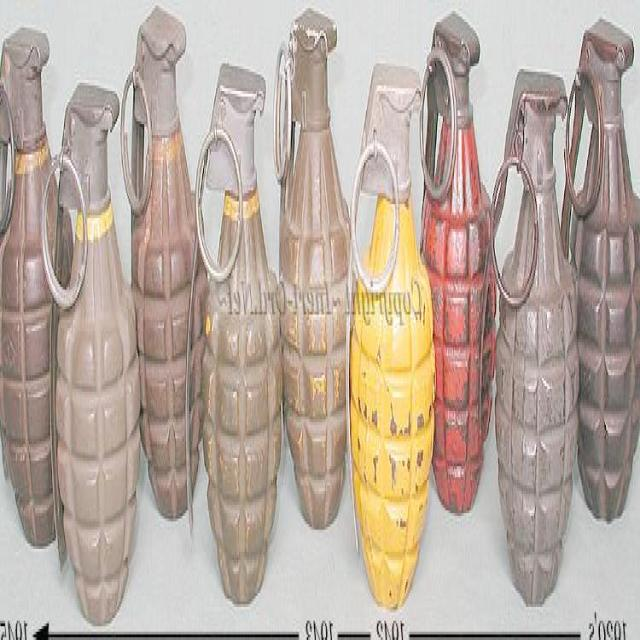grenade: (43, 84, 143, 630), (186, 59, 284, 613), (488, 70, 578, 612), (348, 65, 436, 614), (122, 1, 208, 525), (275, 6, 353, 533), (418, 21, 499, 523), (560, 23, 640, 531), (2, 26, 73, 550)
